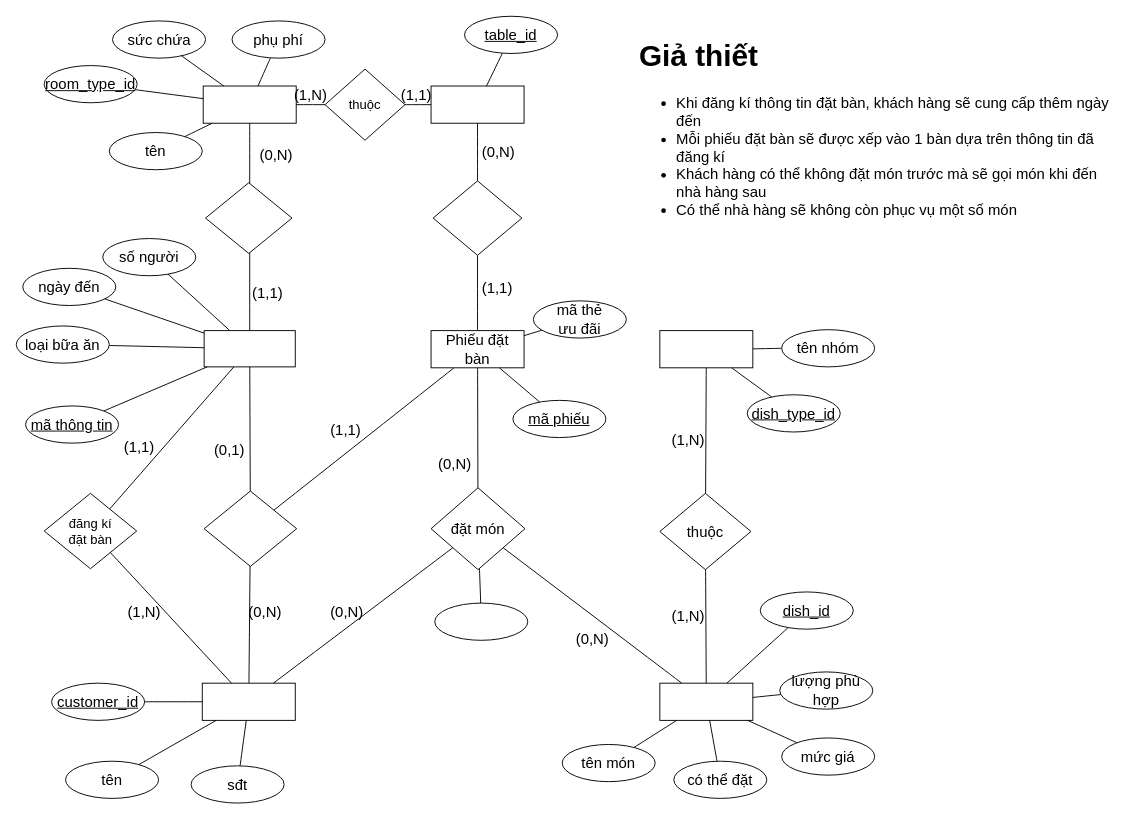
The diagram is 1139 pixels wide and 819 high, and some of its shapes have lost their labels. The centre of each missing label's shape, as x and y in pixels:
"Bàn" goes at (x=477, y=104).
"ghi nhận" goes at (x=250, y=528).
"Khách hàng" goes at (x=248, y=701).
"Loại phòng" goes at (x=249, y=104).
"muốn đặt" goes at (x=248, y=217).
"Món ăn" goes at (x=706, y=701).
"Nhóm món ăn" goes at (x=706, y=349).
"số lượng" goes at (x=481, y=621).
"Thông tin đặt bàn" goes at (x=249, y=348).
"xếp" goes at (x=477, y=217).
